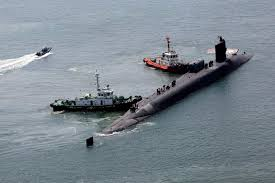Ship: (51, 87, 143, 112), (144, 51, 186, 72)
Submarine: (97, 39, 253, 145)
